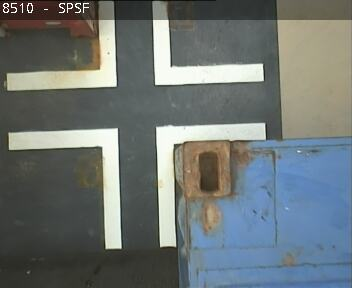groundmarker_1: (9, 120, 264, 247), (7, 1, 264, 90)
